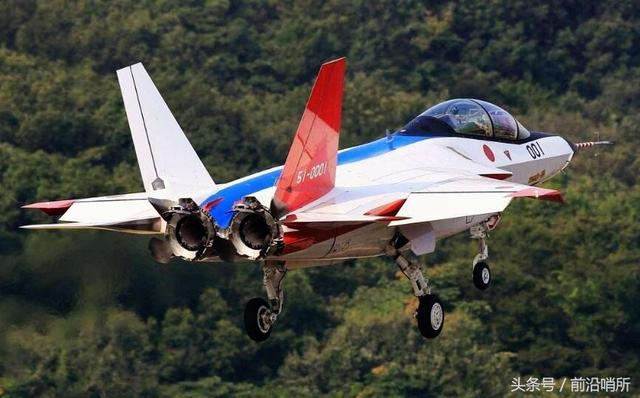airplane: (11, 55, 598, 342)
